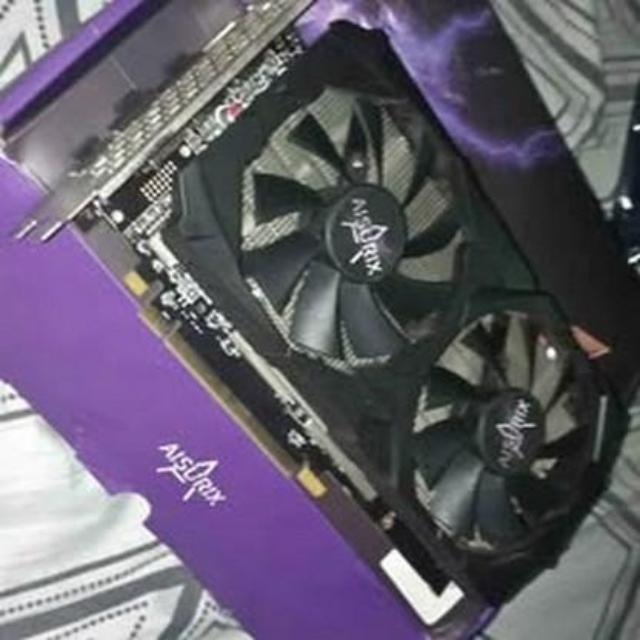GPU: (102, 0, 627, 631)
